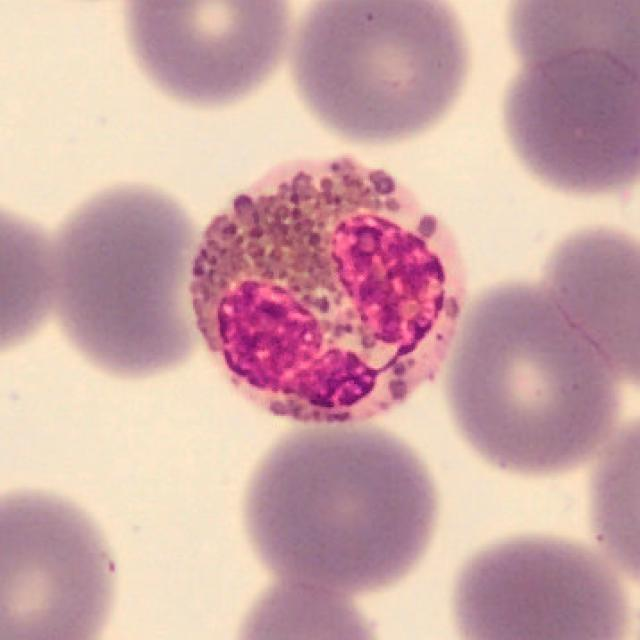Eosinofilo: (195, 158, 465, 427)
